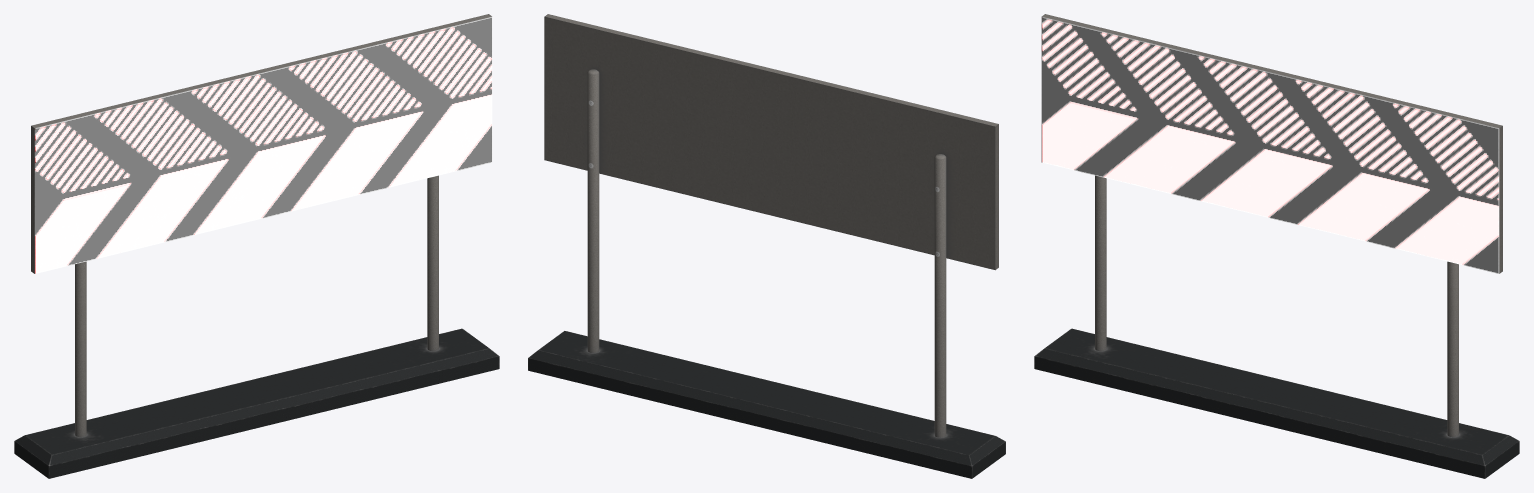
Rendered from SM_ArrowSigns_A.fbx.
The picture shows the model from 3 angles, left to right: view 1: azimuth 30°, elevation 25°; view 2: azimuth 150°, elevation 25°; view 3: azimuth 330°, elevation 25°; orthographic projection.
Parts seen in each view (by area): view 1: SM_ArrowSigns_A; view 2: SM_ArrowSigns_A; view 3: SM_ArrowSigns_A.
Boxes of the visible parts, x1,y1,x2,y2 form: SM_ArrowSigns_A: (14,14,499,478); SM_ArrowSigns_A: (528,14,1005,478); SM_ArrowSigns_A: (1034,14,1519,478).
Bounding box in the file's own units: 702 × 91.58 × 504.
1 material, 1 textured.
